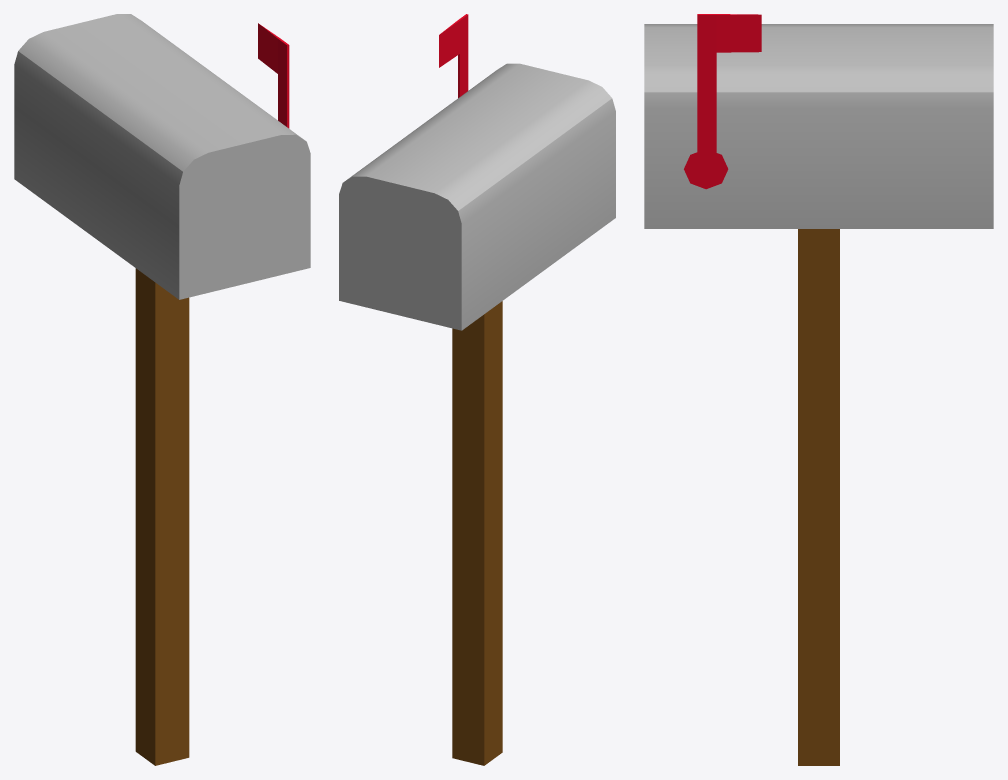
Rendered from mailbox_03.fbx.
3 renders of one model, left to right at view 1: azimuth 30°, elevation 25°; view 2: azimuth 150°, elevation 25°; view 3: azimuth 270°, elevation 25°, orthographic. The views are drawn at different scales.
Visible parts, largest first — view 1: mailbox_03; view 2: mailbox_03; view 3: mailbox_03.
Boxes of the visible parts, left/top/right/bottom form: mailbox_03: left=14, top=14, right=310, bottom=765; mailbox_03: left=339, top=14, right=615, bottom=765; mailbox_03: left=644, top=14, right=993, bottom=765.
Size of the model in its own units: 0.2799 by 1.46 by 0.5924.
